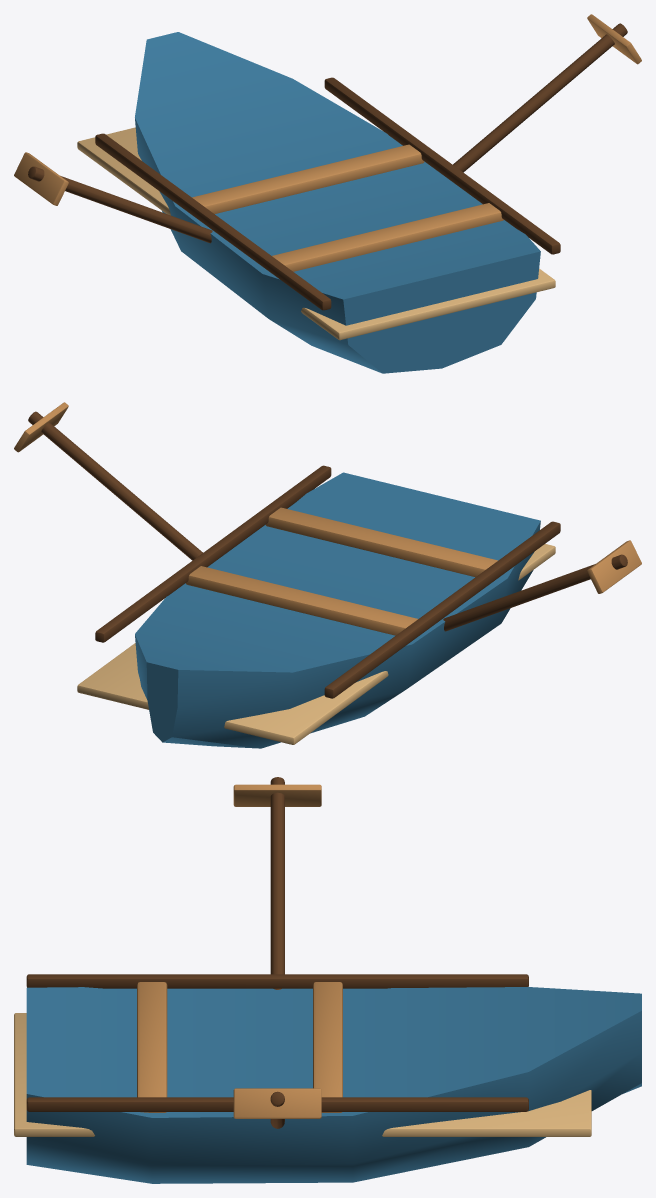
File: Rowboat.fbx
The picture shows the model from 3 angles, top to bottom: view 1: azimuth 30°, elevation 25°; view 2: azimuth 150°, elevation 25°; view 3: azimuth 270°, elevation 25°; orthographic projection. The views are drawn at different scales.
Visible parts, largest first — view 1: Rowboat; view 2: Rowboat; view 3: Rowboat.
Part boxes in pixels (<box>): Rowboat: <box>14,14,641,373</box>; Rowboat: <box>14,402,641,748</box>; Rowboat: <box>14,777,641,1183</box>.
Bounding box in the file's own units: 3.02 × 0.9661 × 2.5.
